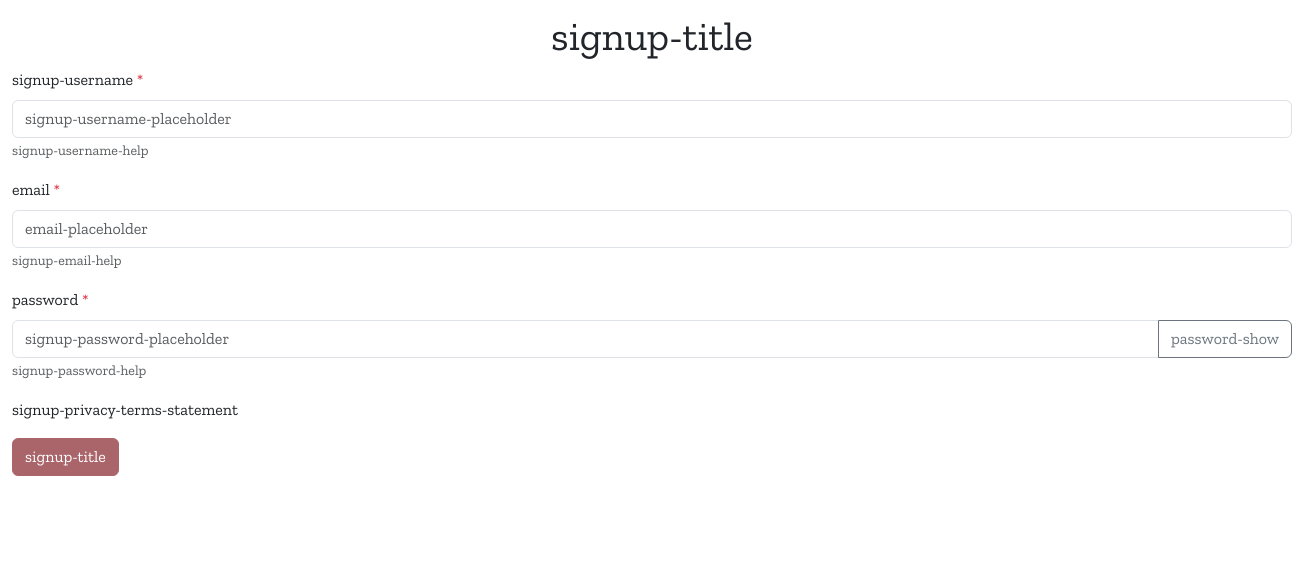
Test: Signup › renders and submits the form when the form is valid but receives an error
The width and height of the screenshot is (1304, 567).
Note: Fill the form
In the field with placeholder "signup-username-placeholder": (652, 119) top-left (12, 100), bottom-right (1292, 138), type "username"
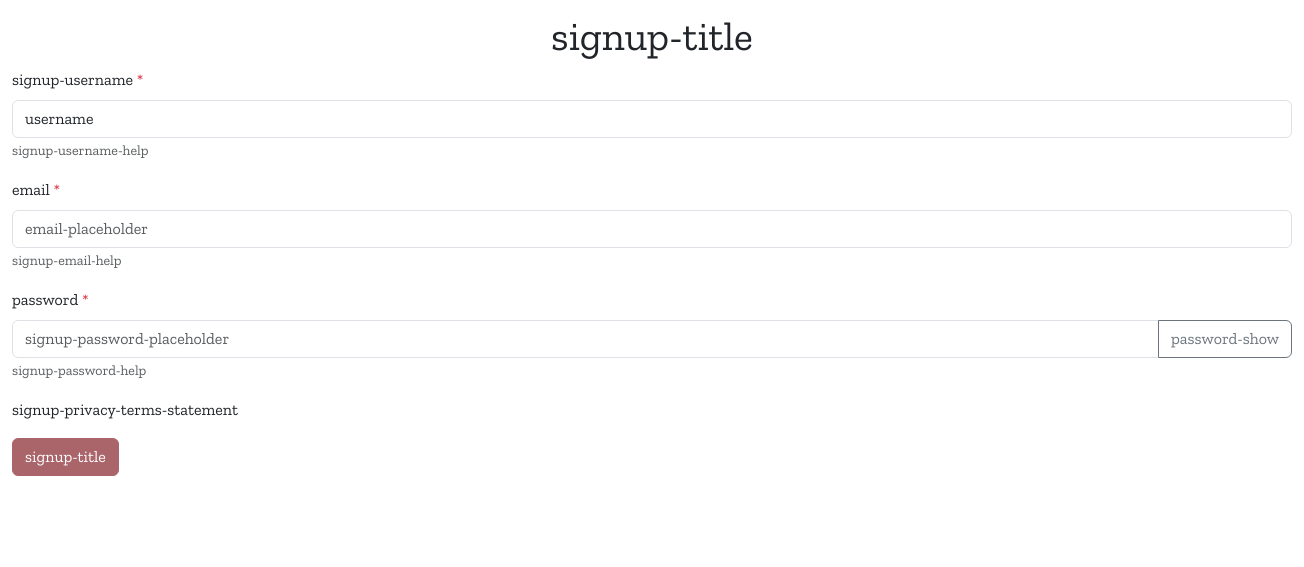
In the field with placeholder "email-placeholder": (652, 229) top-left (12, 210), bottom-right (1292, 248), type "test@example.com"
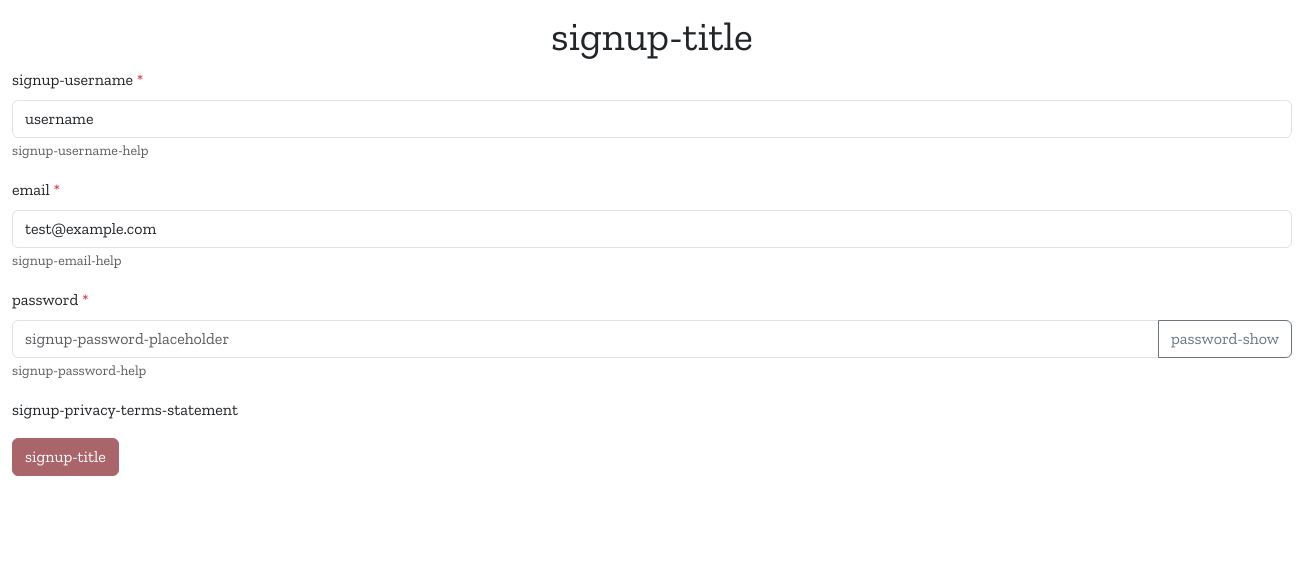
In the password field with placeholder "signup-password-placeholder": (586, 339) top-left (12, 320), bottom-right (1159, 358), type "Password@123"
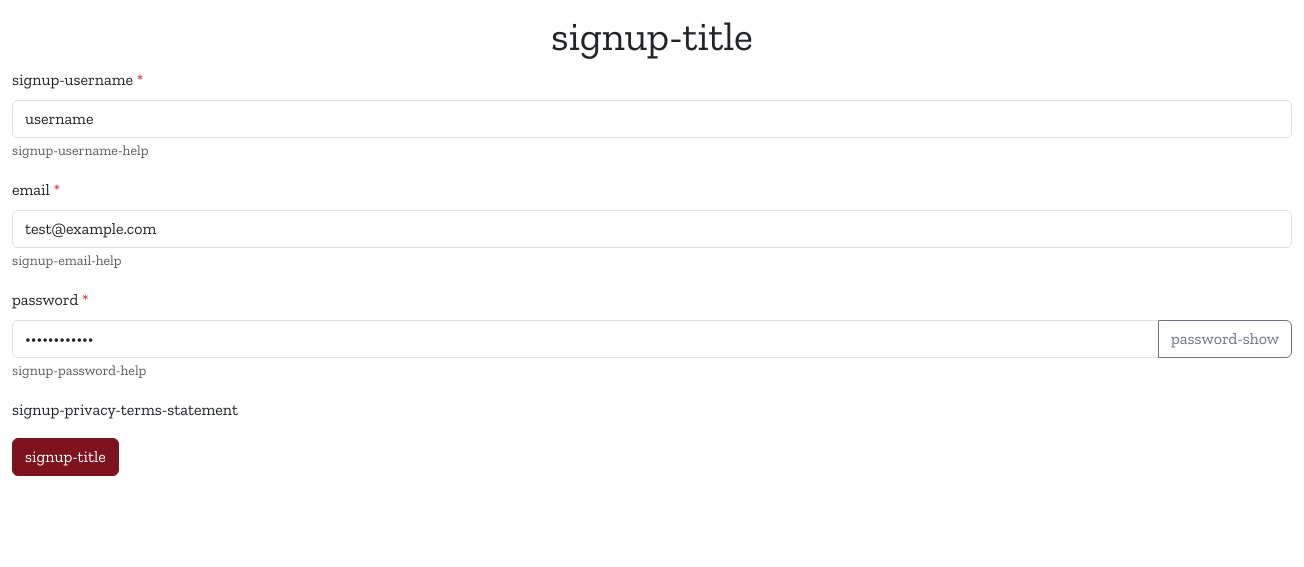
Submit the form from the button "signup-title", box top-left (12, 438), bottom-right (119, 476)
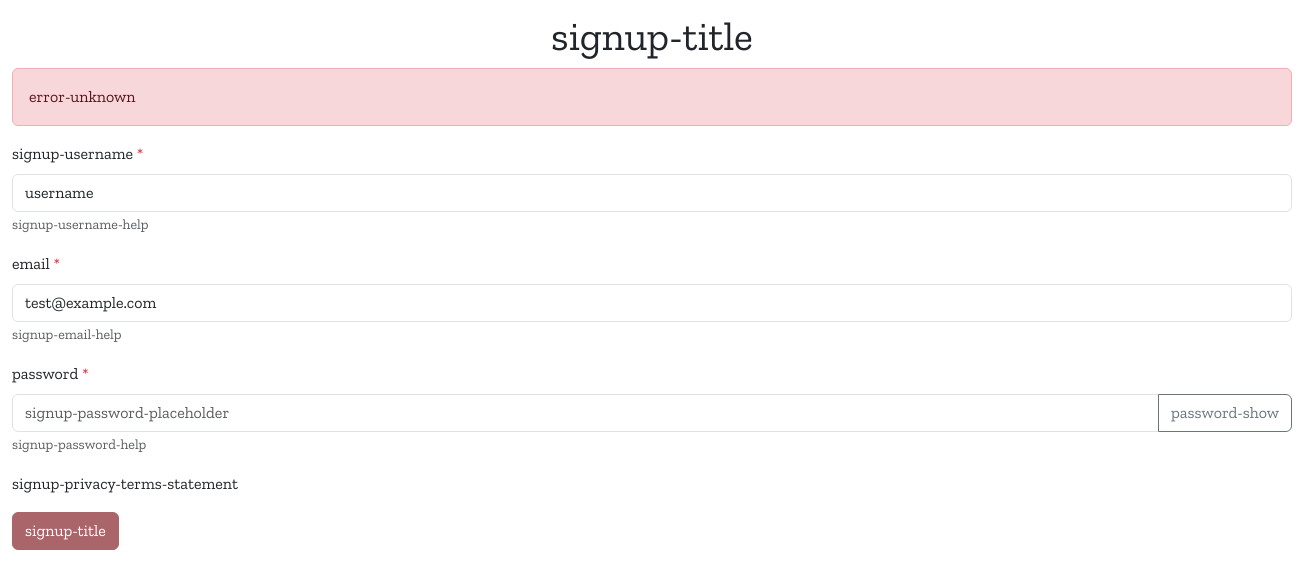
Expected: the text "error-unknown" is shown, top-left (12, 68), bottom-right (1292, 126)
Expected: the password field with placeholder "signup-password-placeholder" is empty, top-left (12, 394), bottom-right (1159, 432)
